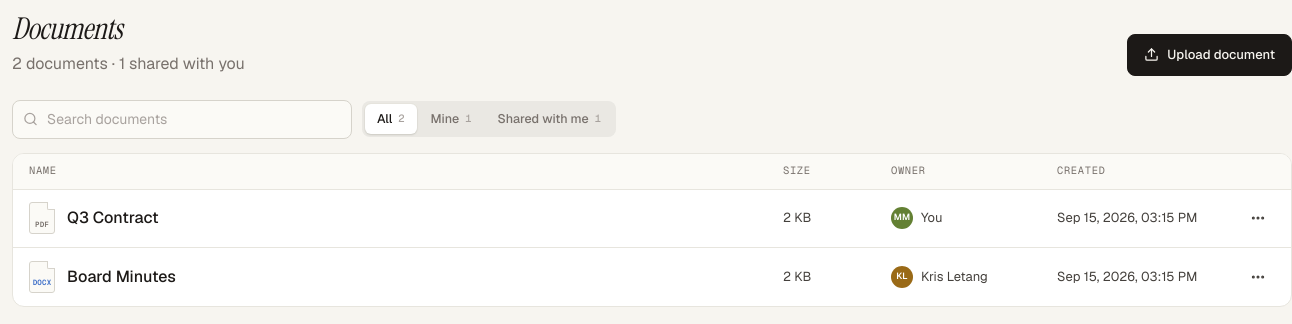
Test: Finding a document › shows only others' documents under Shared with me
The image size is (1292, 324).
Click the button "Shared with me 1": (549, 119) [486,104,613,134]
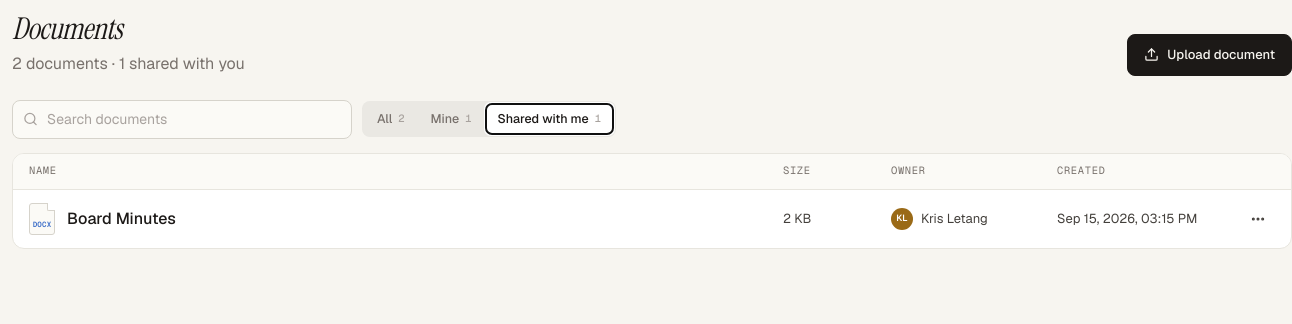
Expected: the link "Board Minutes" is shown, [67,208,176,229]
Result: the link "Q3 Contract" is gone
